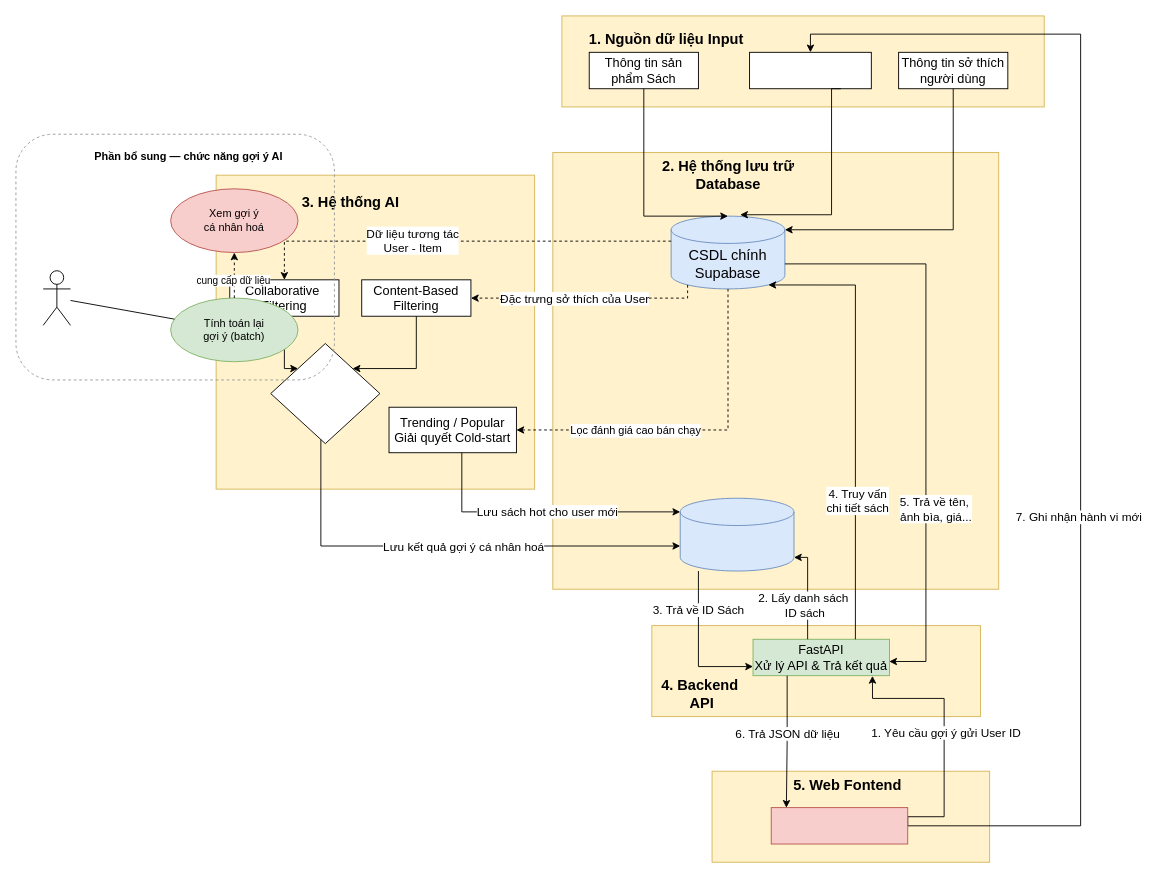
Some shapes in this 1158 by 878 pixel diagram are drawn without their labels. Each missing label, with the centre of its shape:
"Cache DB" goes at point (736, 534).
"Hybrid Aggregator" goes at point (325, 393).
"Hệ thống AI" goes at point (56, 297).
"Lịch sử xem / click / mua hàng" goes at point (810, 70).
"Trang chủ Website Next.js (Vercel)" goes at point (839, 825).
